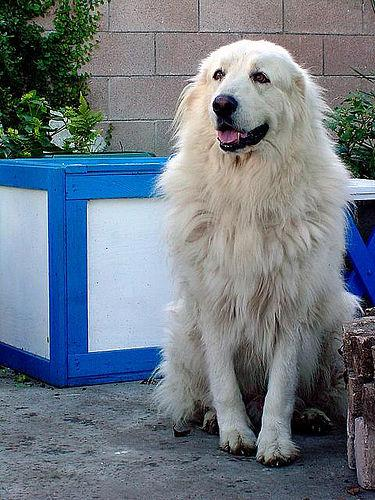dog-great_pyrenees: (181, 39, 302, 152)
